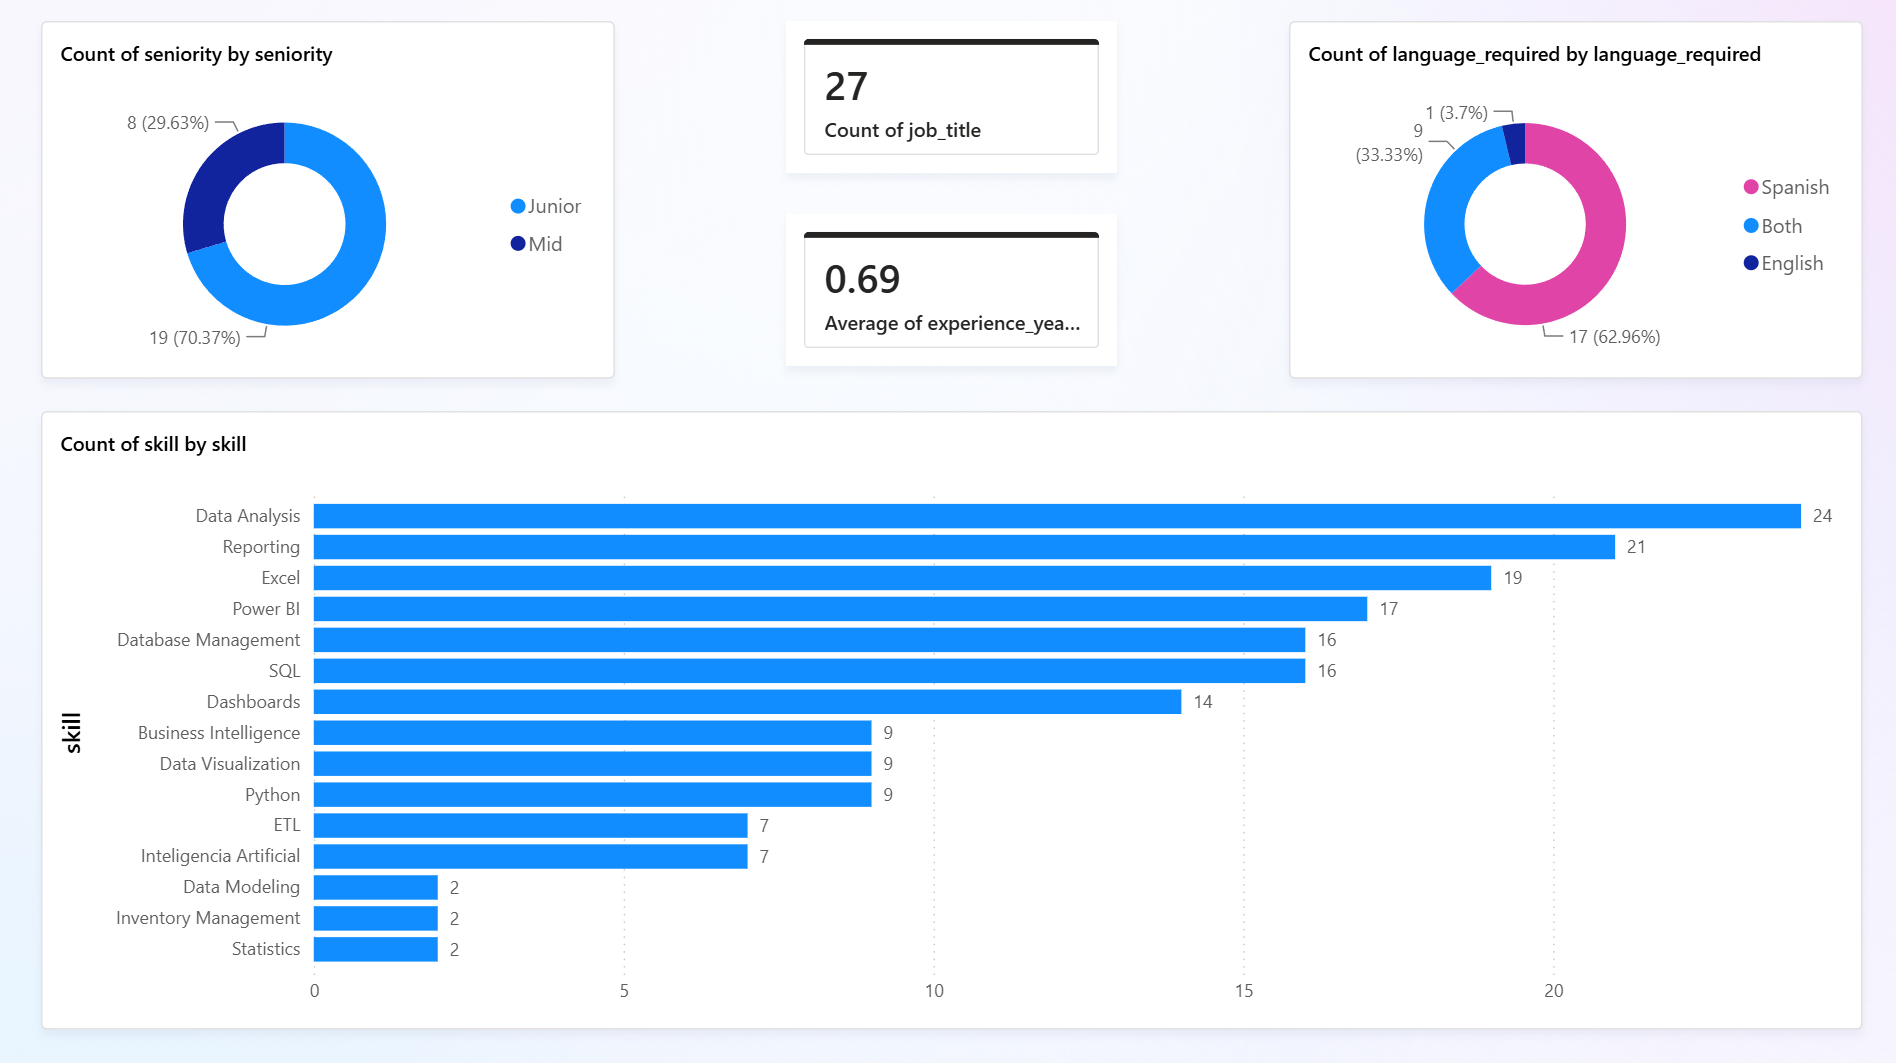

This screenshot's page, from the dashboard's own definition file:
{"tool":"powerbi","page":{"name":"Page 1","canvas":[1280,720],"ordinal":0},"visuals":[{"type":"barChart","fields":{"Category":["skills_analysisAIFinal.skill"],"Y":["CountNonNull(skills_analysisAIFinal.skill)"]},"box":[28.8,277.5,1221.8,414.9],"z":0},{"type":"cardVisual","fields":{"Data":["CountNonNull(jobs_analysisAIFinal.job_title)"]},"box":[528.6,16.1,222.5,102.1],"z":1},{"type":"donutChart","fields":{"Category":["jobs_analysisAIFinal.seniority"],"Y":["CountNonNull(jobs_analysisAIFinal.seniority)"]},"box":[28.8,16.4,384.8,239.5],"z":2},{"type":"donutChart","fields":{"Category":["jobs_analysisAIFinal.language_required"],"Y":["CountNonNull(jobs_analysisAIFinal.language_required)"]},"box":[865.8,16.4,384.8,239.5],"z":3},{"type":"cardVisual","fields":{"Data":["Avg(jobs_analysisAIFinal.experience_years_min)"]},"box":[528.6,145.6,222.5,102.1],"z":4}]}

Visuals, with their boxes in screenshot pixels (x1, y1, x2, y2), scaled from the page's 1280x720 canvas onto the 1896x1063 screenshot:
barChart - skills_analysisAIFinal.skill x CountNonNull(skills_analysisAIFinal.skill): 43,410,1852,1022
cardVisual - CountNonNull(jobs_analysisAIFinal.job_title): 783,24,1113,175
donutChart - jobs_analysisAIFinal.seniority x CountNonNull(jobs_analysisAIFinal.seniority): 43,24,613,378
donutChart - jobs_analysisAIFinal.language_required x CountNonNull(jobs_analysisAIFinal.language_required): 1282,24,1852,378
cardVisual - Avg(jobs_analysisAIFinal.experience_years_min): 783,215,1113,366
